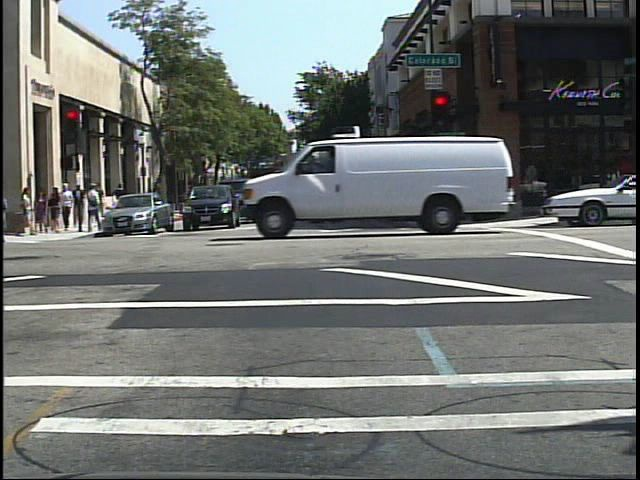person: (82, 180, 103, 233)
